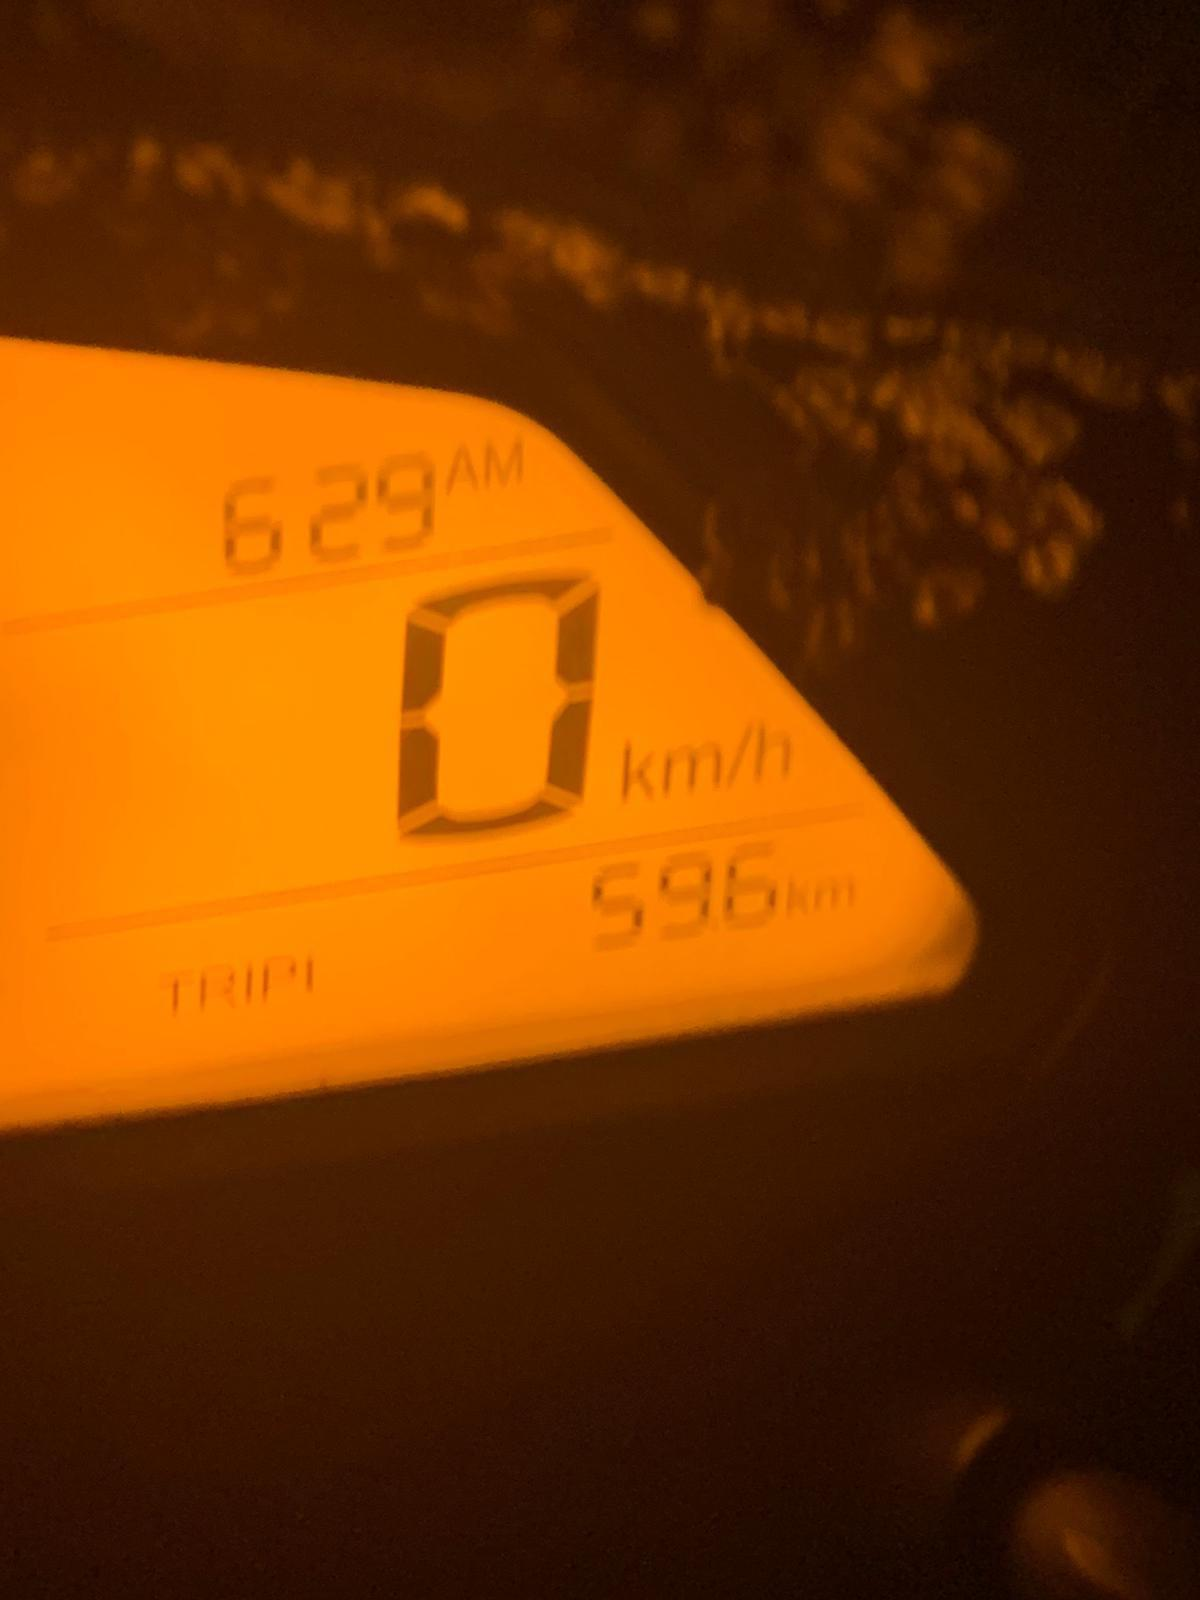0: (400, 569, 596, 853)
1: (301, 945, 325, 1015)
2: (305, 457, 367, 559)
5: (585, 859, 645, 952)
6: (212, 464, 291, 576), (725, 840, 779, 926)
9: (376, 446, 435, 552), (655, 849, 708, 947)
X: (661, 740, 720, 797), (616, 733, 661, 805), (756, 712, 799, 782), (197, 961, 238, 1023), (724, 717, 756, 794), (483, 433, 524, 493), (261, 947, 296, 1014), (153, 961, 192, 1020), (442, 446, 485, 496), (816, 874, 862, 916), (784, 867, 813, 923), (245, 945, 257, 1029)
odometer: (0, 325, 997, 1139)
